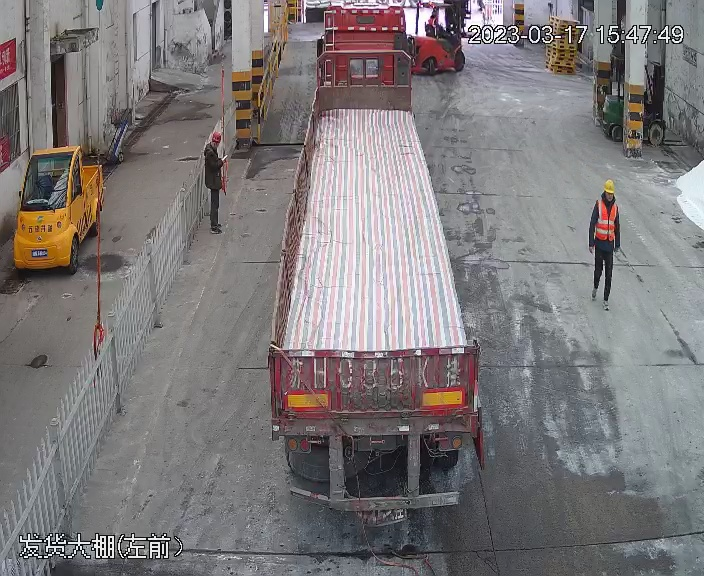head: (592, 180, 619, 217), (202, 129, 226, 160)
helmet: (603, 179, 616, 193), (209, 129, 222, 142)
people: (586, 177, 622, 306), (201, 127, 229, 236)
truck: (258, 7, 490, 544)
